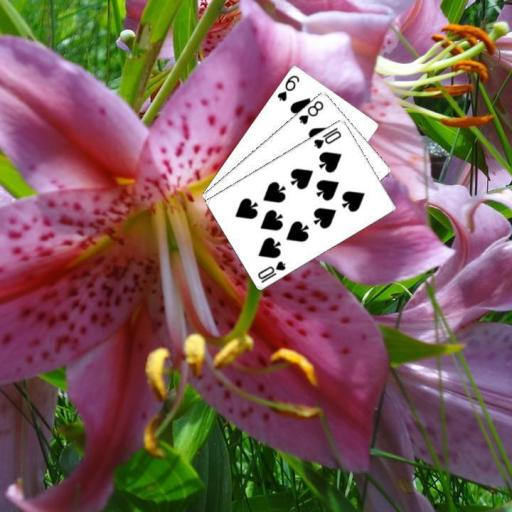card-corner: (295, 97, 325, 126), (255, 257, 287, 284), (311, 124, 343, 150), (274, 72, 301, 102)
